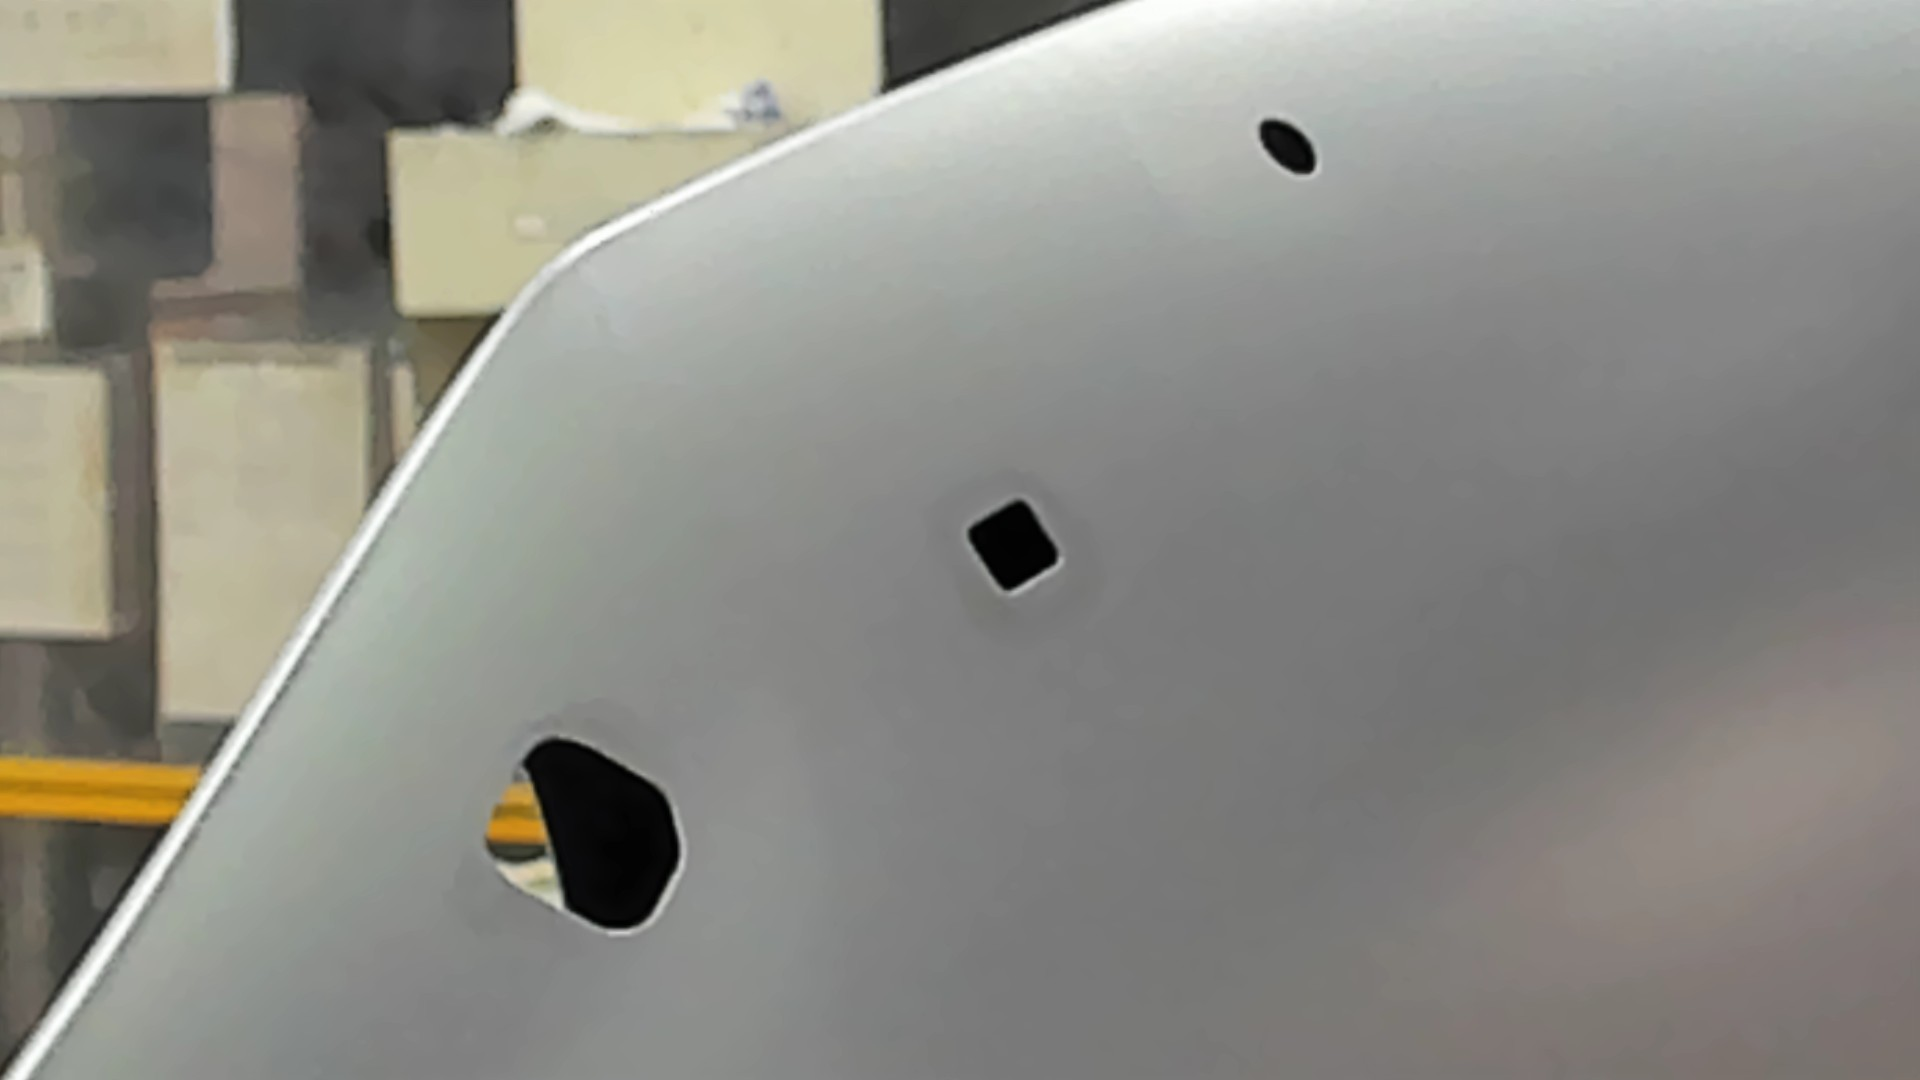chico: (1250, 108, 1327, 182)
grande: (477, 728, 694, 942)
mediano: (960, 491, 1068, 603)
